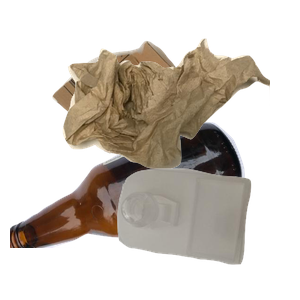cardboard: (50, 38, 233, 184)
glass: (10, 120, 247, 300)
plastic: (115, 166, 300, 300)
trash: (60, 36, 300, 198)
